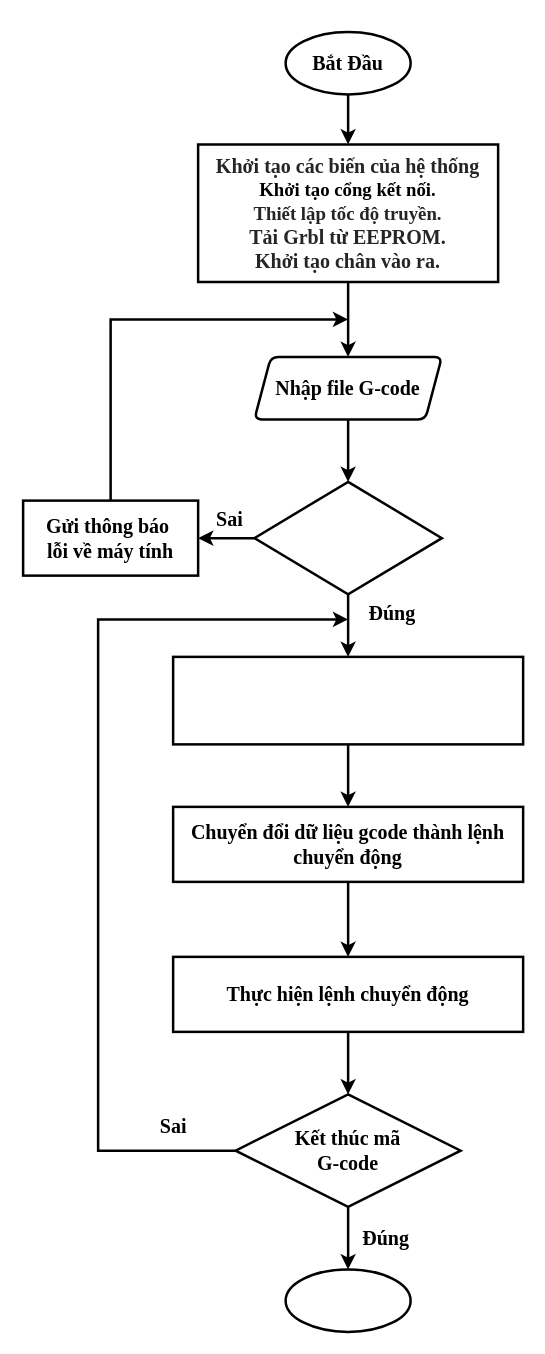
This 545x1354 diagram has some shape labels left out. The shapes that lost their labels are listed below. From the top down, each one's box as (x1, y1, x2, y2) in pixels, then its label:
(252, 480, 442, 595): Kiểm tra có mã G-code
(171, 655, 524, 745): Đọc và phân tích cú pháp G-Code theo từng dòng.
(284, 1268, 411, 1332): Kết thúc
